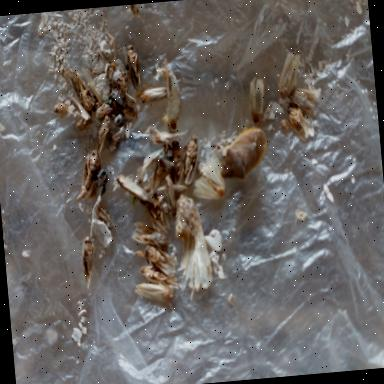pbw: (74, 151, 104, 203), (116, 174, 158, 211), (67, 68, 97, 117), (276, 49, 304, 100), (162, 68, 184, 132), (177, 136, 204, 188), (144, 244, 180, 282), (130, 218, 170, 250), (136, 279, 176, 306), (80, 236, 99, 288), (248, 77, 268, 124), (140, 264, 174, 290), (124, 45, 144, 89), (289, 102, 309, 144), (94, 114, 114, 150), (148, 162, 169, 196), (168, 136, 182, 187), (292, 87, 316, 115), (136, 86, 172, 104)
